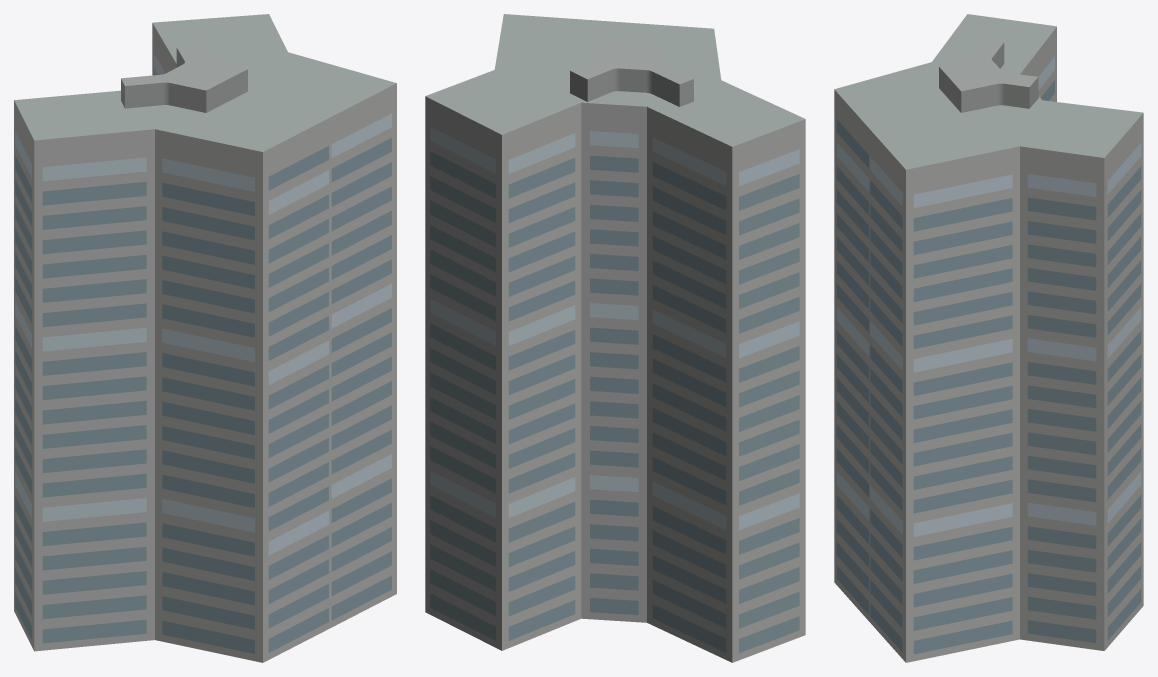
Rendered from fallback-jamsil-els-172.glb.
The picture shows the model from 3 angles, left to right: view 1: azimuth 30°, elevation 25°; view 2: azimuth 150°, elevation 25°; view 3: azimuth 270°, elevation 25°; orthographic projection. The views are drawn at different scales.
Visible parts, largest first — view 1: fallback-jamsil-els-172; view 2: fallback-jamsil-els-172; view 3: fallback-jamsil-els-172.
Part boxes in pixels (<box>): fallback-jamsil-els-172: <box>14,14,396,662</box>; fallback-jamsil-els-172: <box>425,14,805,662</box>; fallback-jamsil-els-172: <box>834,14,1143,662</box>.
Bounding box in the file's own units: 37 × 57 × 31.06.
